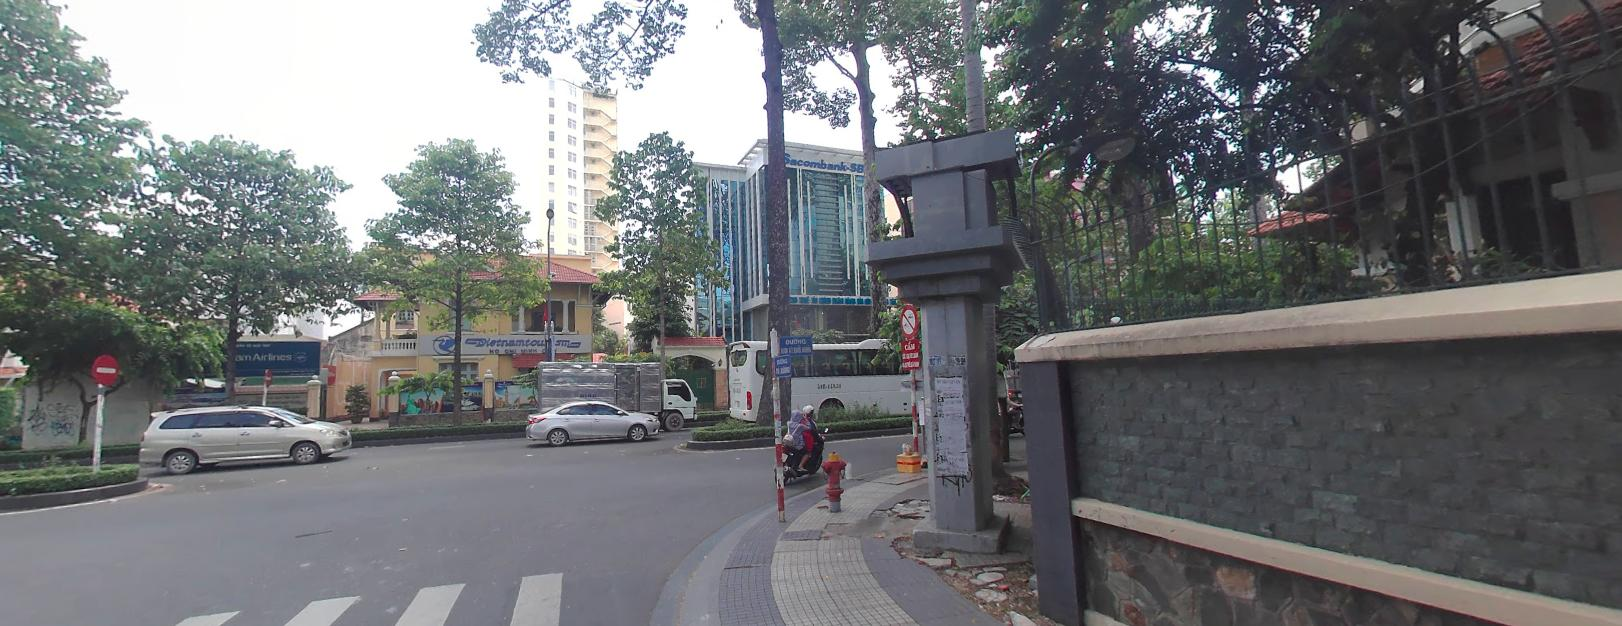Cam con lai: (900, 303, 918, 336)
Cam nguoc chieu: (91, 352, 118, 385), (264, 367, 271, 386)
